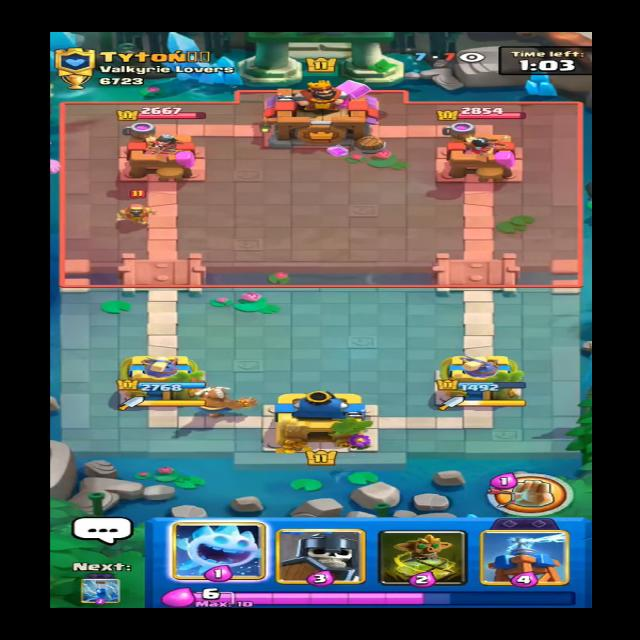wizard: (115, 188, 161, 225)
